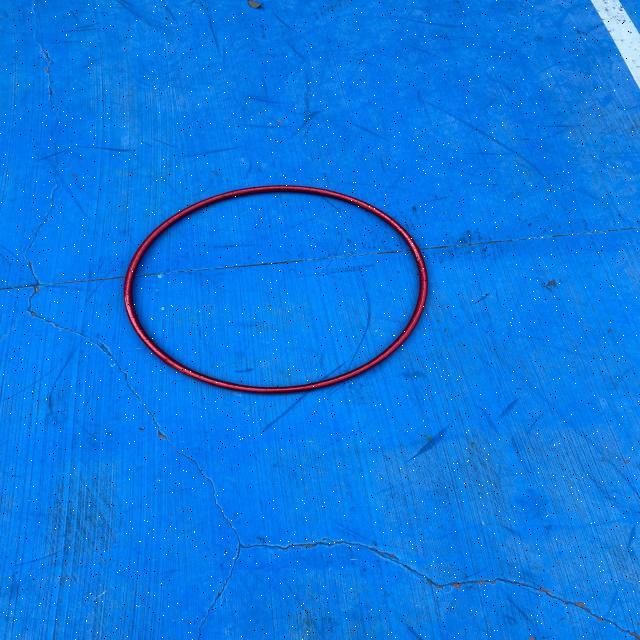Circle: (119, 184, 429, 393)
